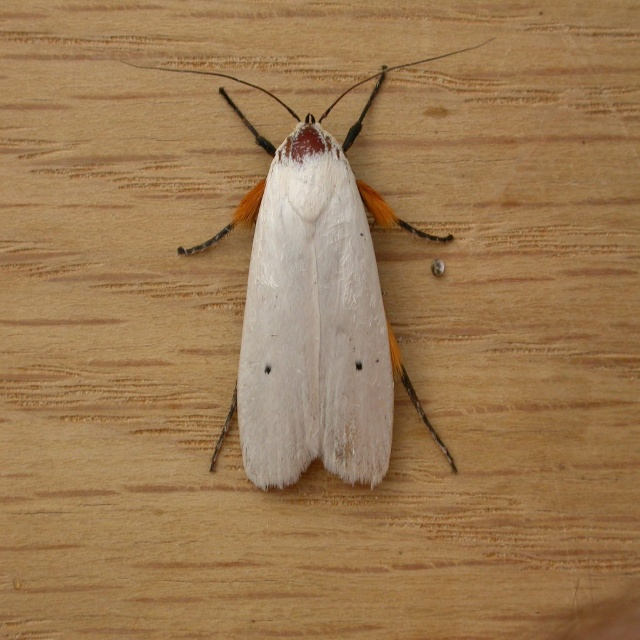Moths and butterflies: (113, 34, 497, 492)
